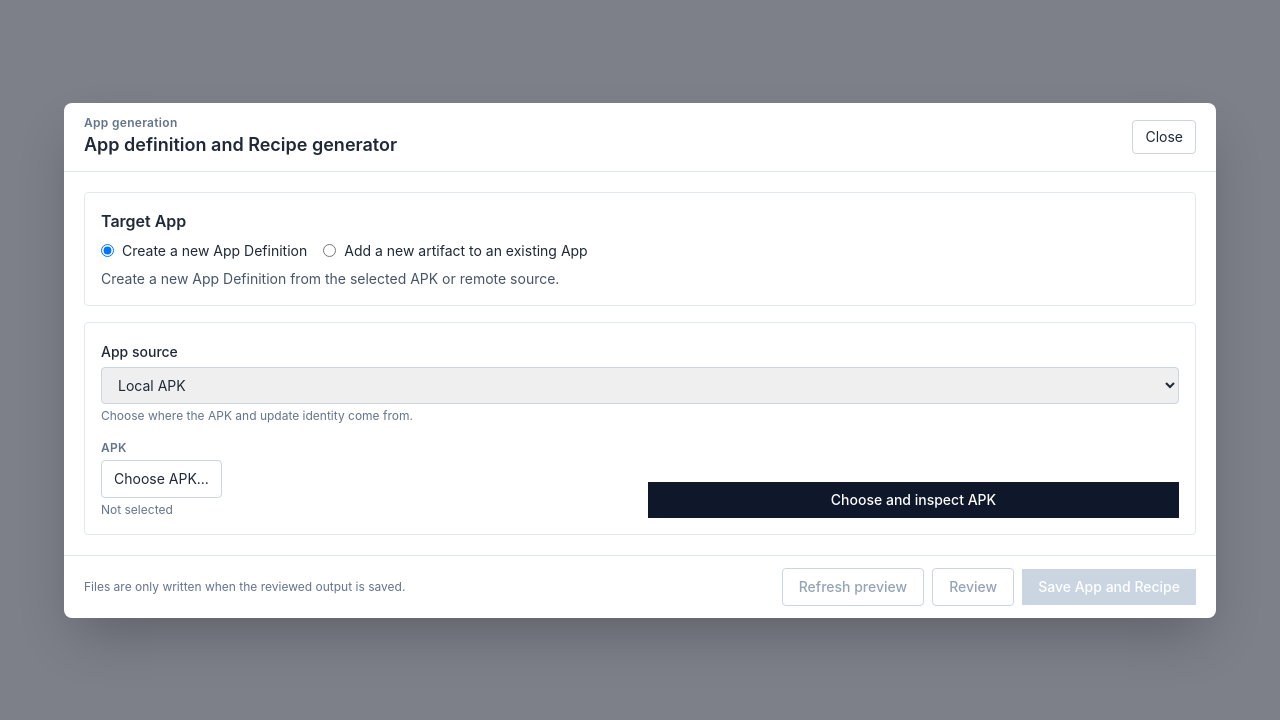
Test: AppGenerator authoring flows › carries explicit artifact and Recipe ids through review and save for a local APK
Click the button "Choose and inspect APK" at (914, 500), box 648,482 -> 1179,518
(page scrolled)
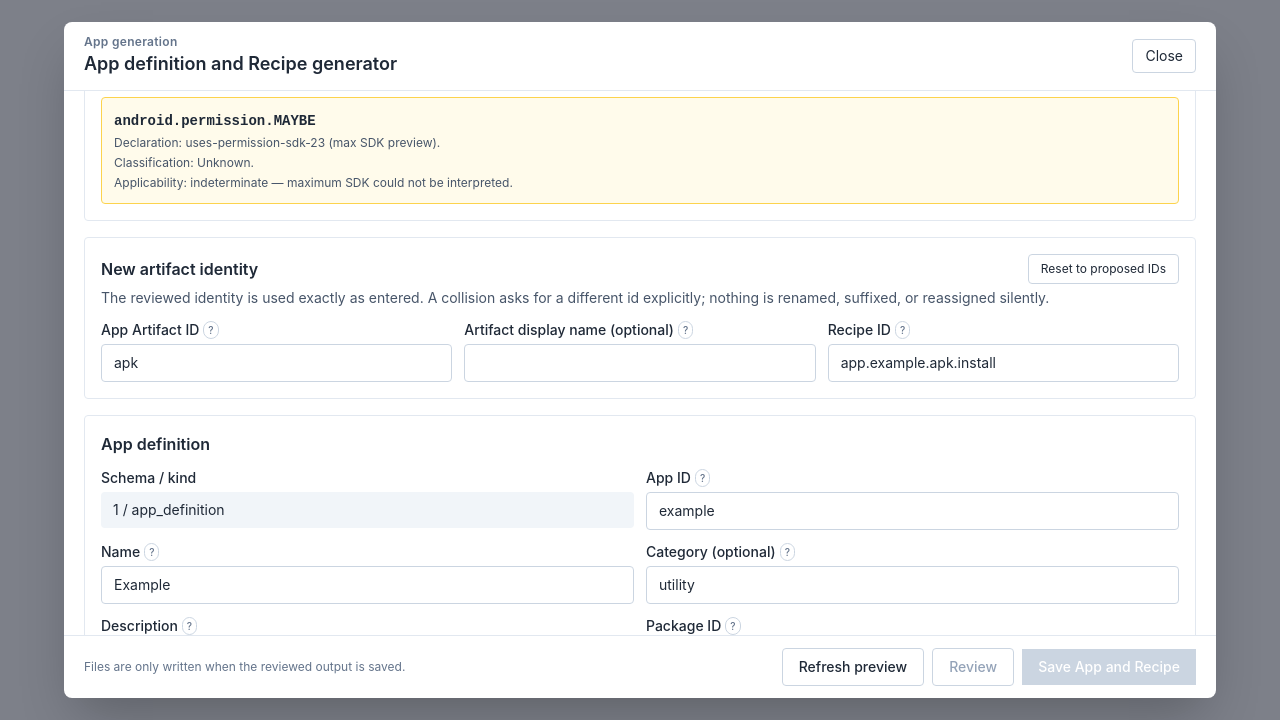
Check: the field labelled "App Artifact ID ?" is shown
Check: the field labelled "App Artifact ID ?" holds "apk"
Check: the field labelled "Recipe ID ?" holds "app.example.apk.install", box 828,344 -> 1179,382
Replace the text in the field labelled "App Artifact ID ?" with "bundle" at (277, 363), box 101,344 -> 452,382
(page scrolled)
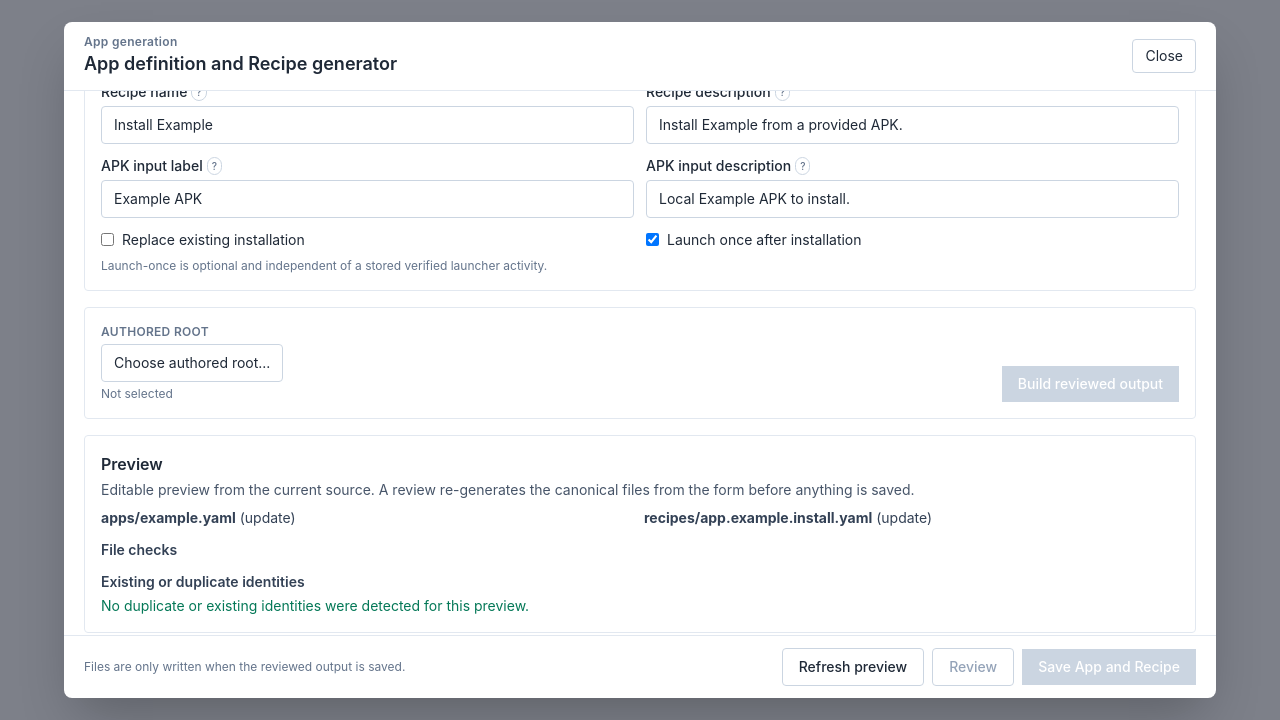
Click the button "Choose authored root..." at (192, 363), box 101,344 -> 283,382
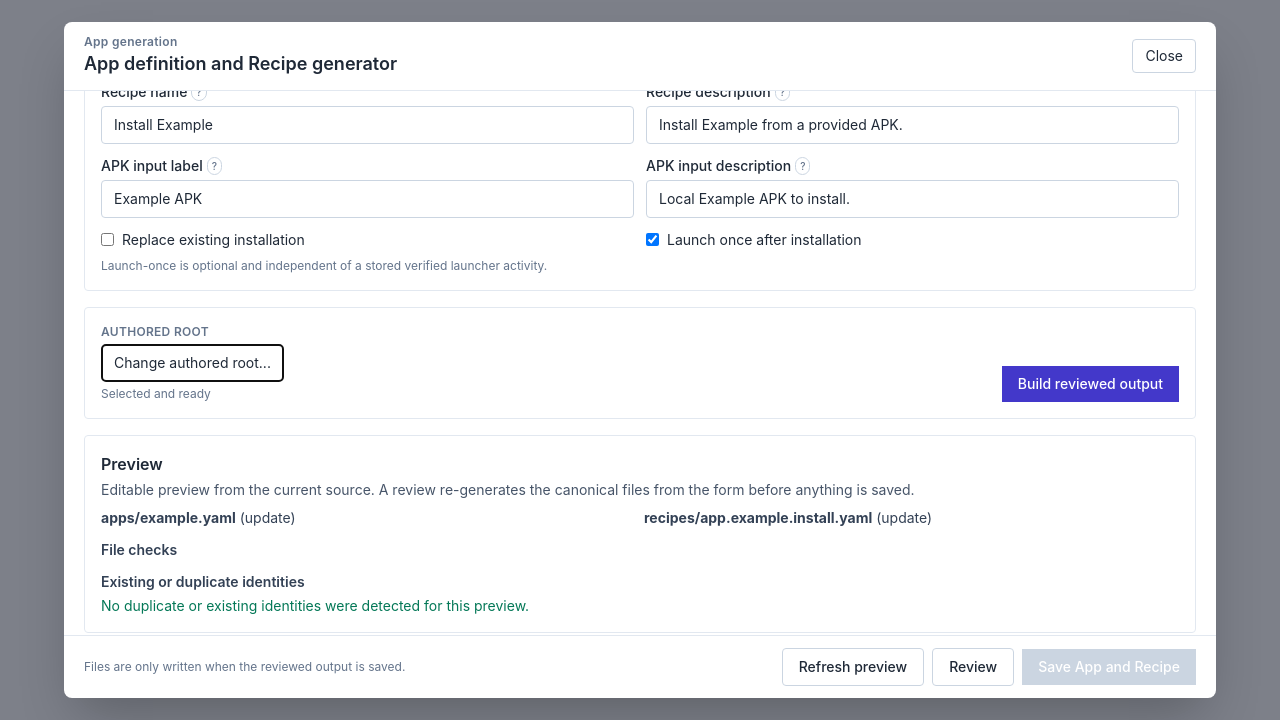
Check: the text "Selected and ready" is shown, box 101,386 -> 211,401
Click the button "Build reviewed output" at (1090, 384), box 1002,366 -> 1179,402
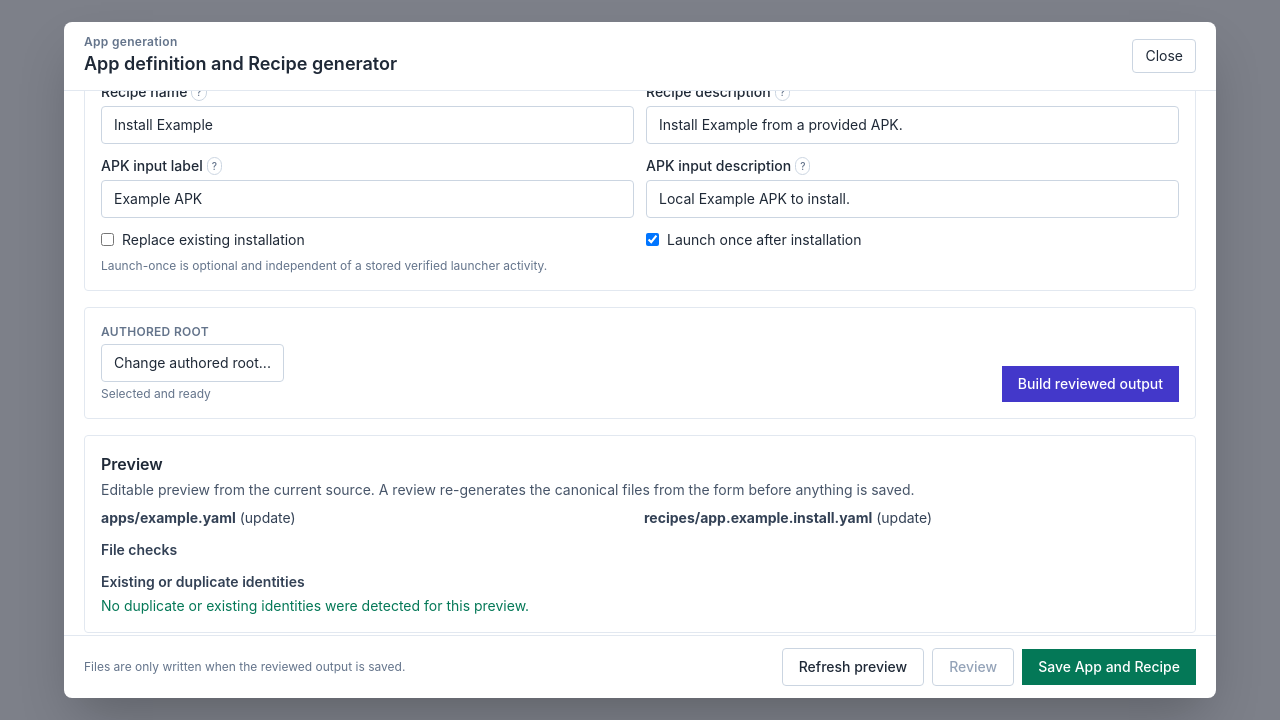
Click the button "Save App and Recipe" at (1109, 667), box 1022,649 -> 1196,685
(page scrolled)
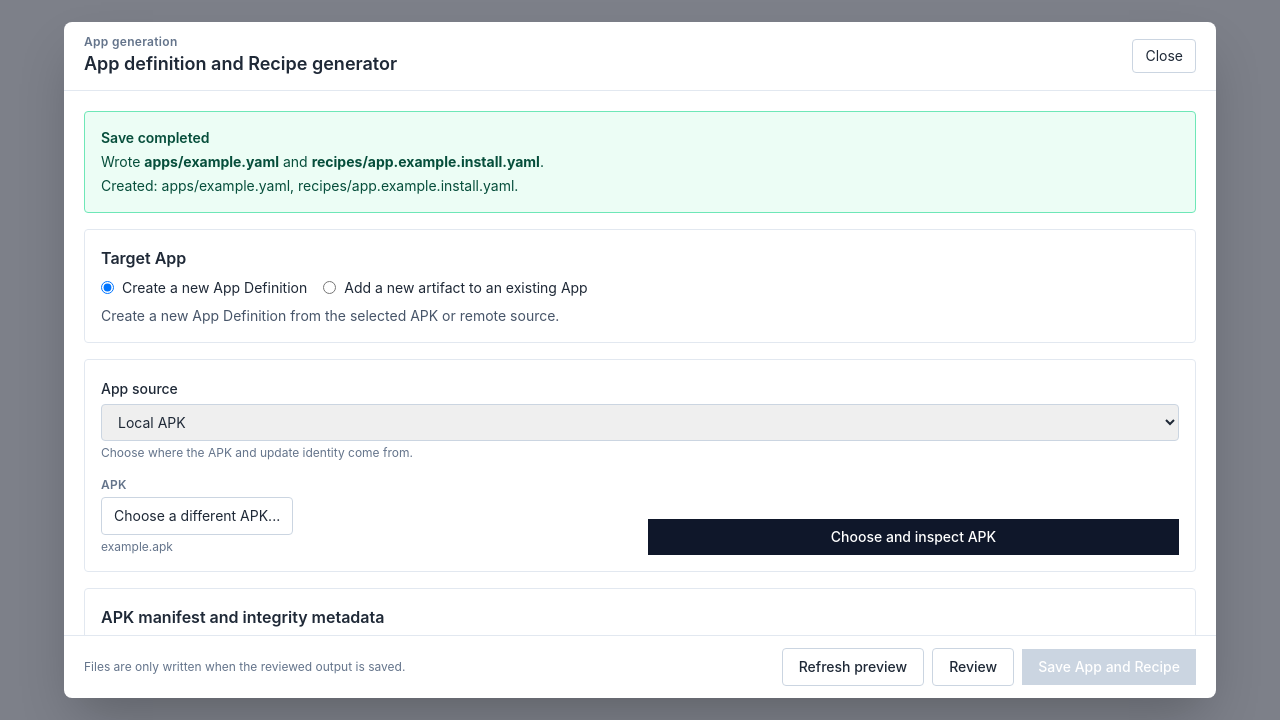
Check: the heading "Save completed" is shown, box 101,129 -> 210,146
